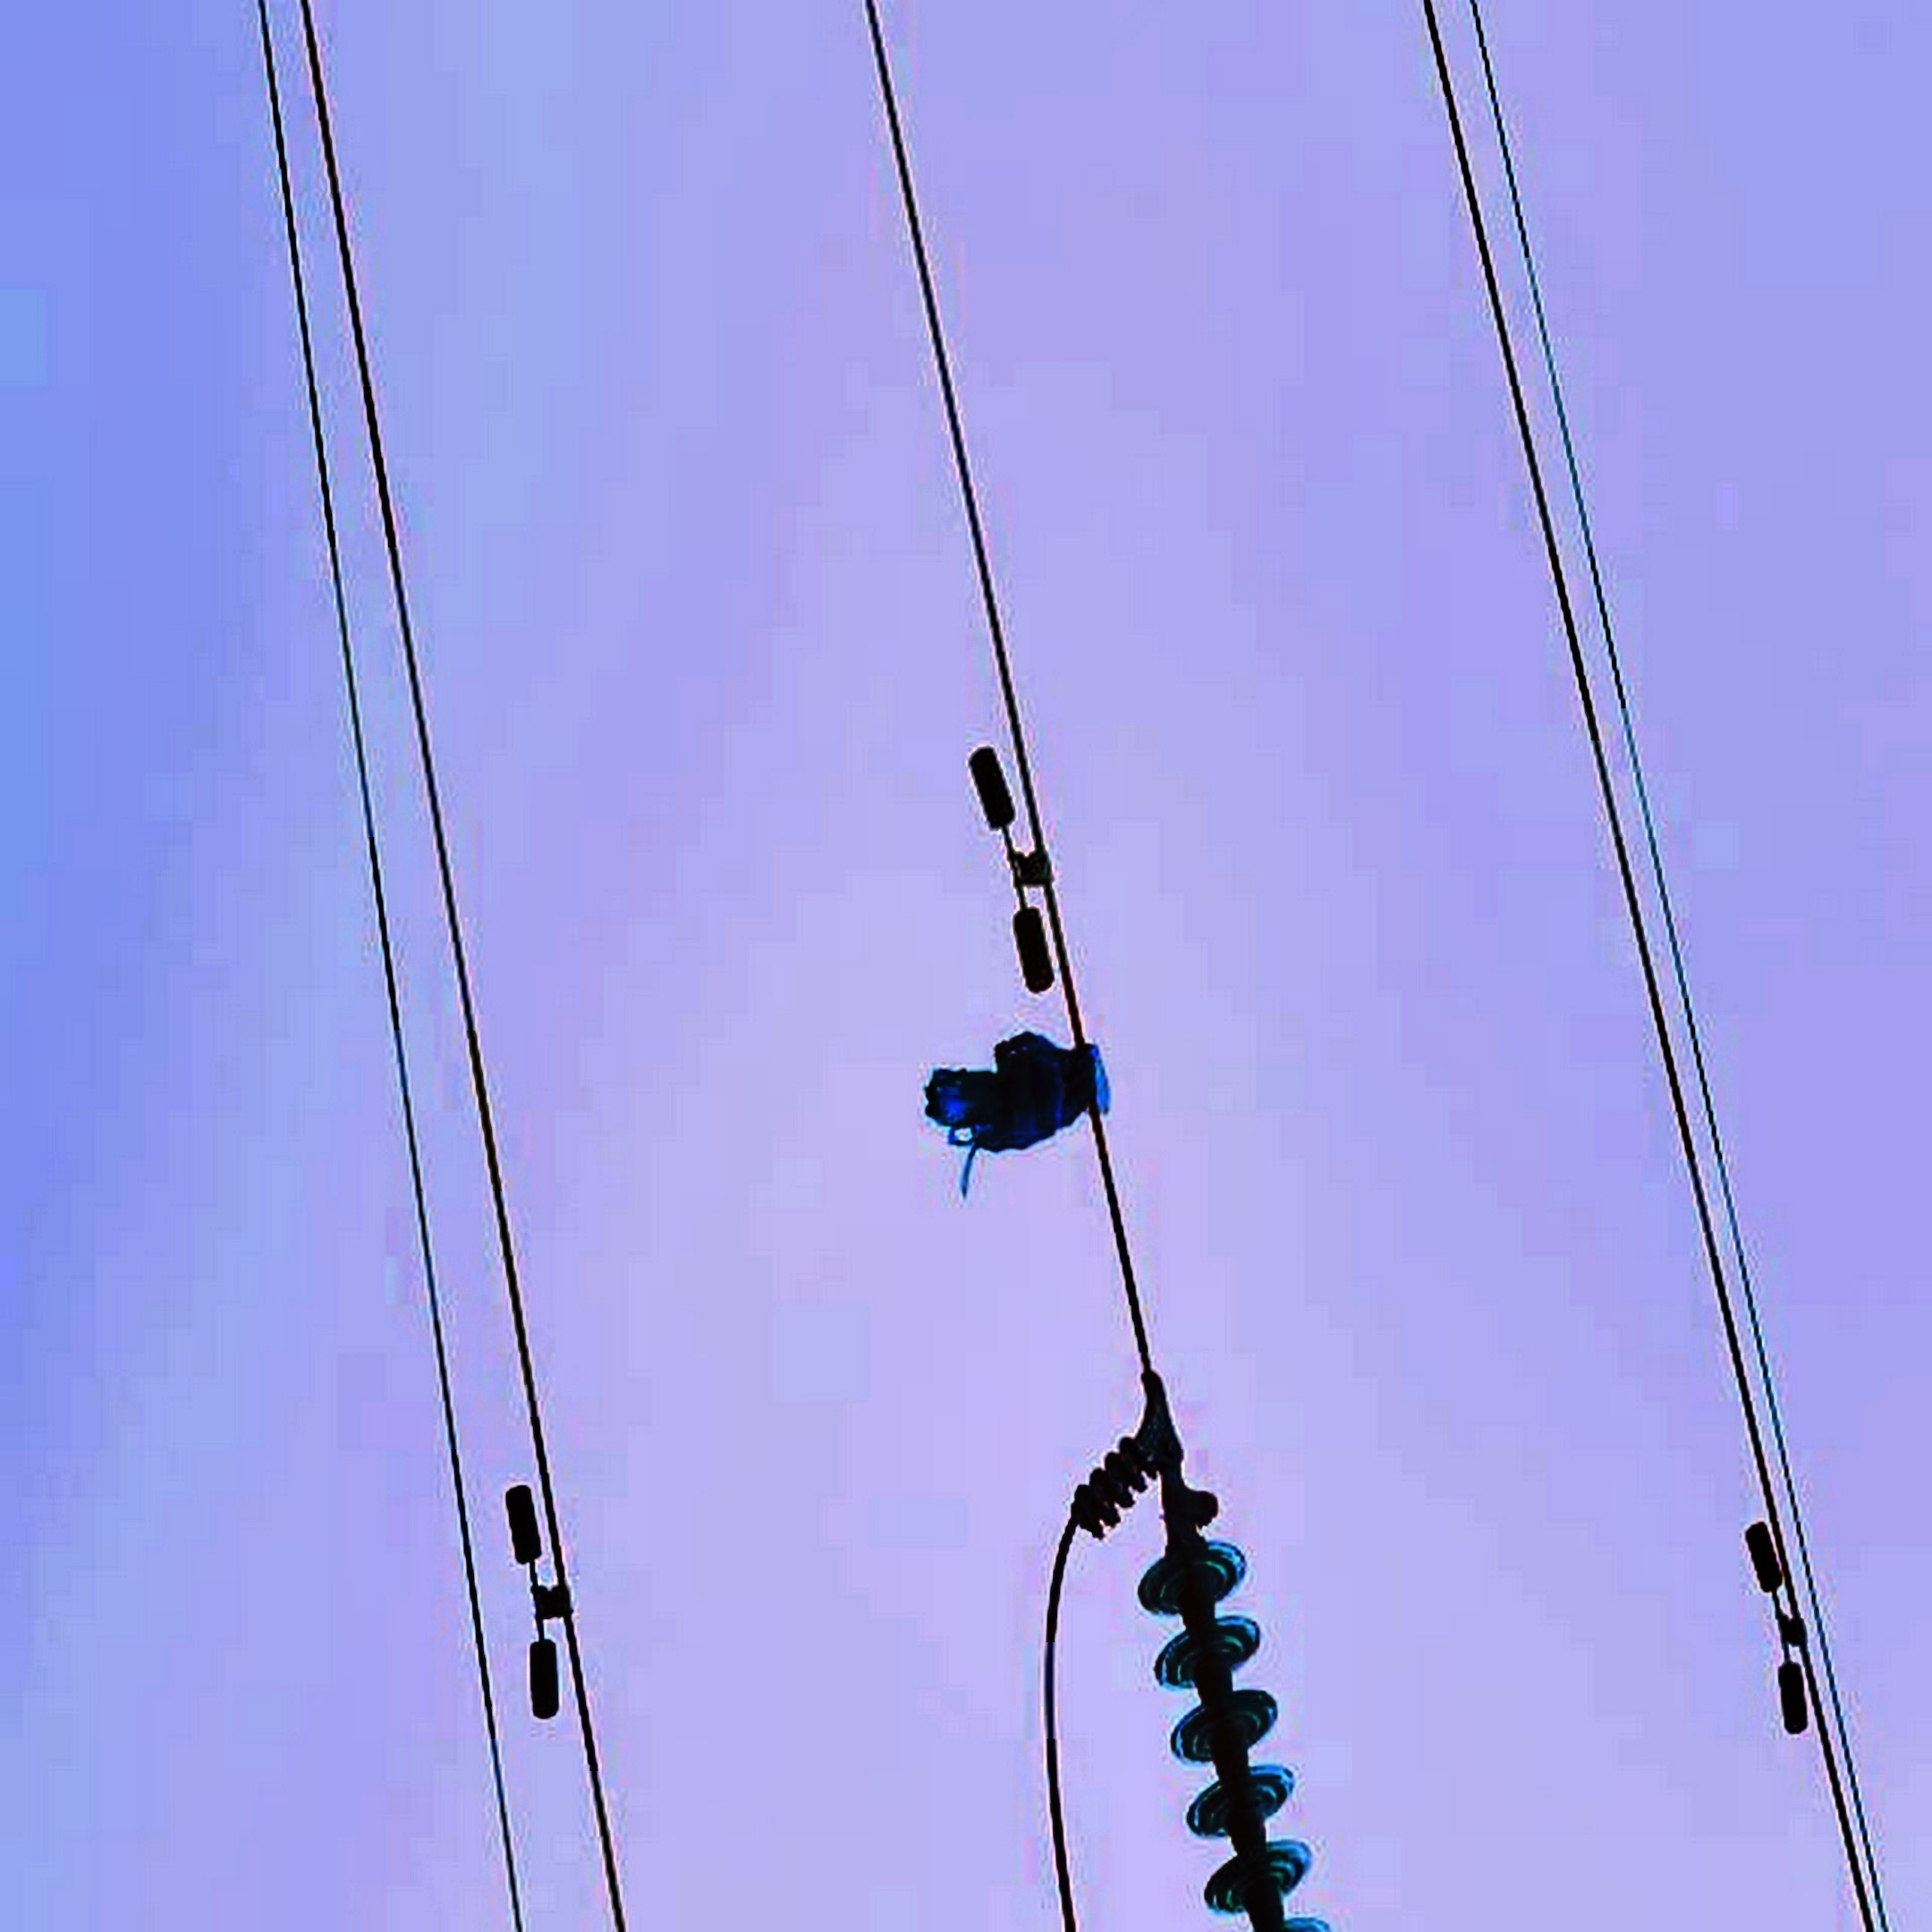wire foreign body: (893, 1019, 1164, 1198)
